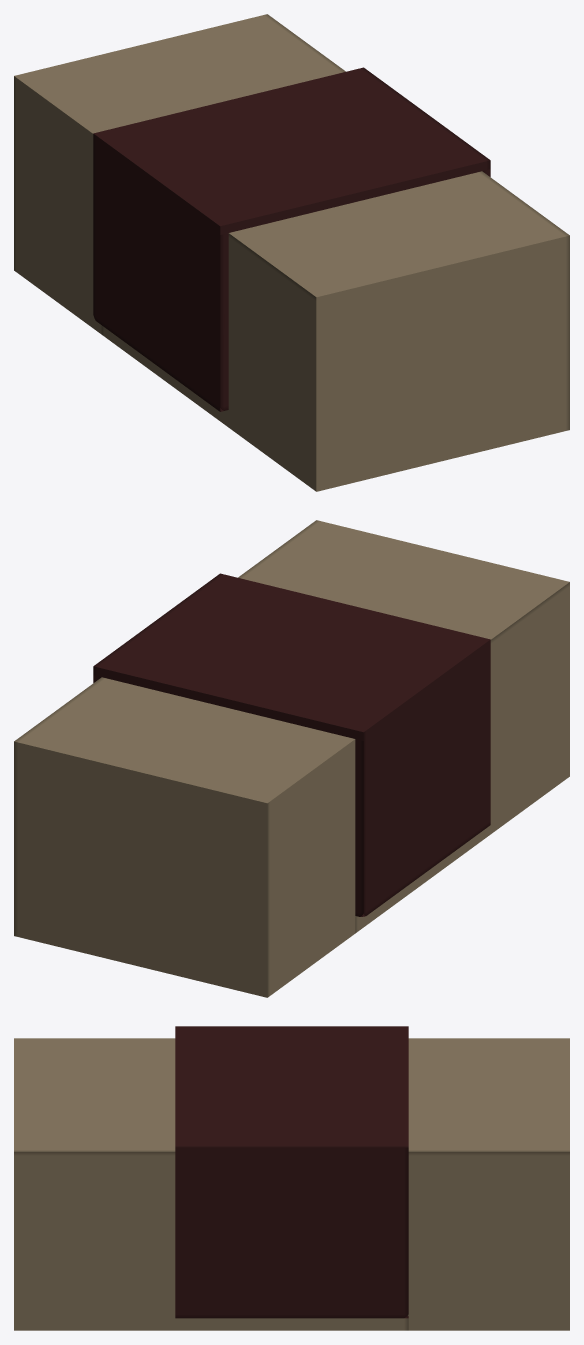
The model's file is Pudelko.dae.
3 renders of one model, top to bottom at view 1: azimuth 30°, elevation 25°; view 2: azimuth 150°, elevation 25°; view 3: azimuth 270°, elevation 25°, orthographic. The views are drawn at different scales.
Parts seen in each view (by area): view 1: pudelko; view 2: pudelko; view 3: pudelko.
Part boxes in pixels (x1,y1,x2,y2): pudelko: (14,14,569,491); pudelko: (14,520,569,997); pudelko: (14,1026,569,1330).
Size of the model in its own units: 32 by 23 by 62.
Materials: 1 (1 with a texture image).
